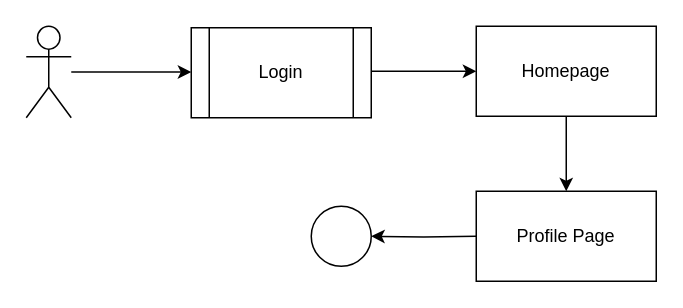
Some shapes in this 683 by 308 pixel diagram are drawn without their labels. Each missing label, with the box of its shape:
Done: (310, 205, 371, 266)
User: (25, 25, 71, 118)
